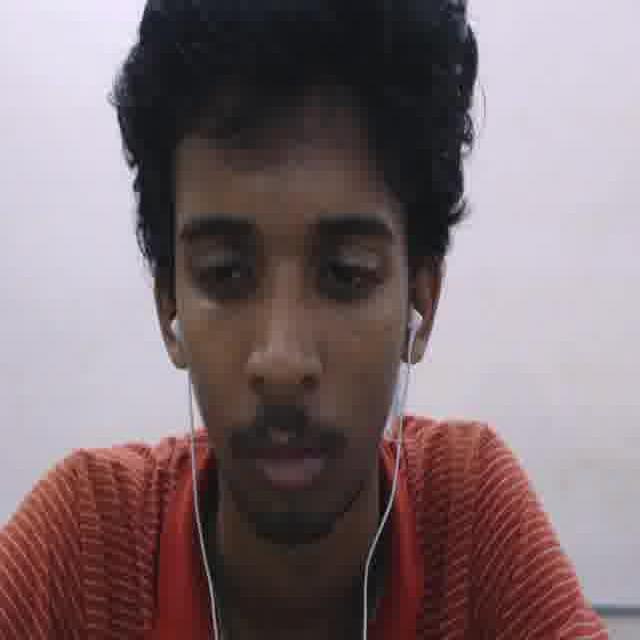Boredom: (168, 109, 410, 531)
